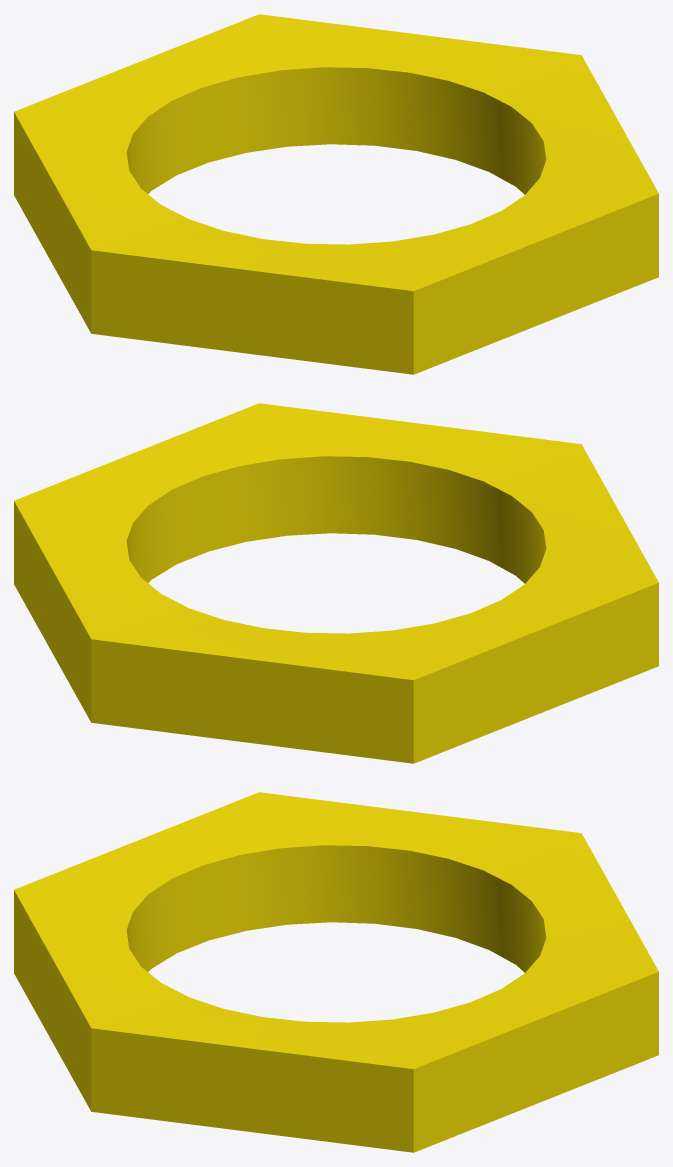
The model's file is somun (1).fbx.
3 views of the same model, one above another, from view 1: azimuth 30°, elevation 25°; view 2: azimuth 150°, elevation 25°; view 3: azimuth 270°, elevation 25° (orthographic).
Parts seen in each view (by area): view 1: Cylinder; view 2: Cylinder; view 3: Cylinder.
Part boxes in pixels (left/top/right/bottom): Cylinder: left=14, top=14, right=658, bottom=374; Cylinder: left=14, top=403, right=658, bottom=763; Cylinder: left=14, top=792, right=658, bottom=1152.
Bounding box in the file's own units: 195 × 27.37 × 192.
Materials: 1 (1 with a texture image).
